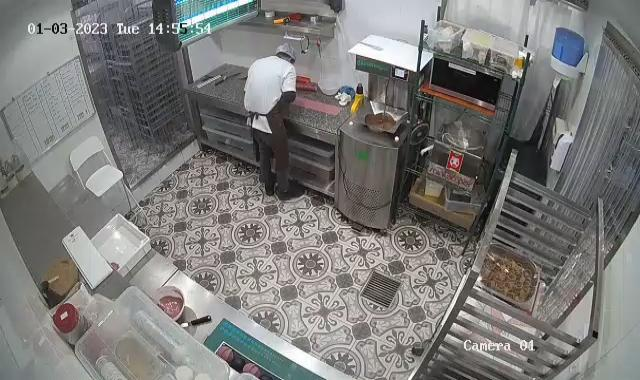hairnet: (274, 42, 296, 62)
